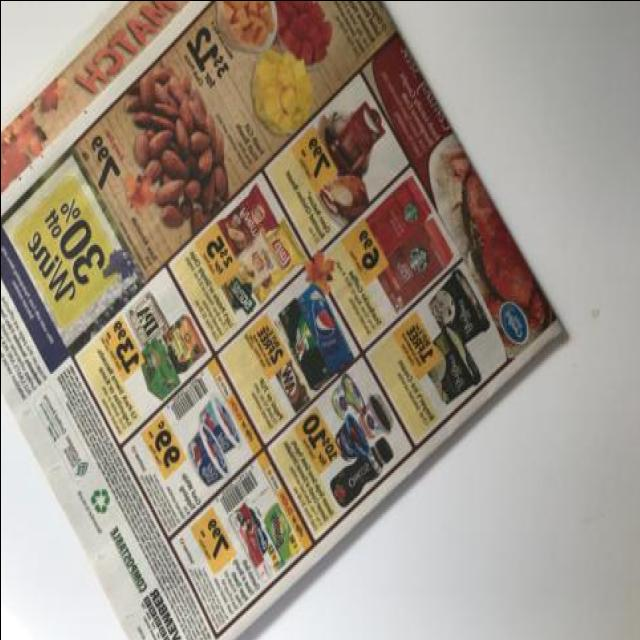kertas: (0, 0, 569, 640)
